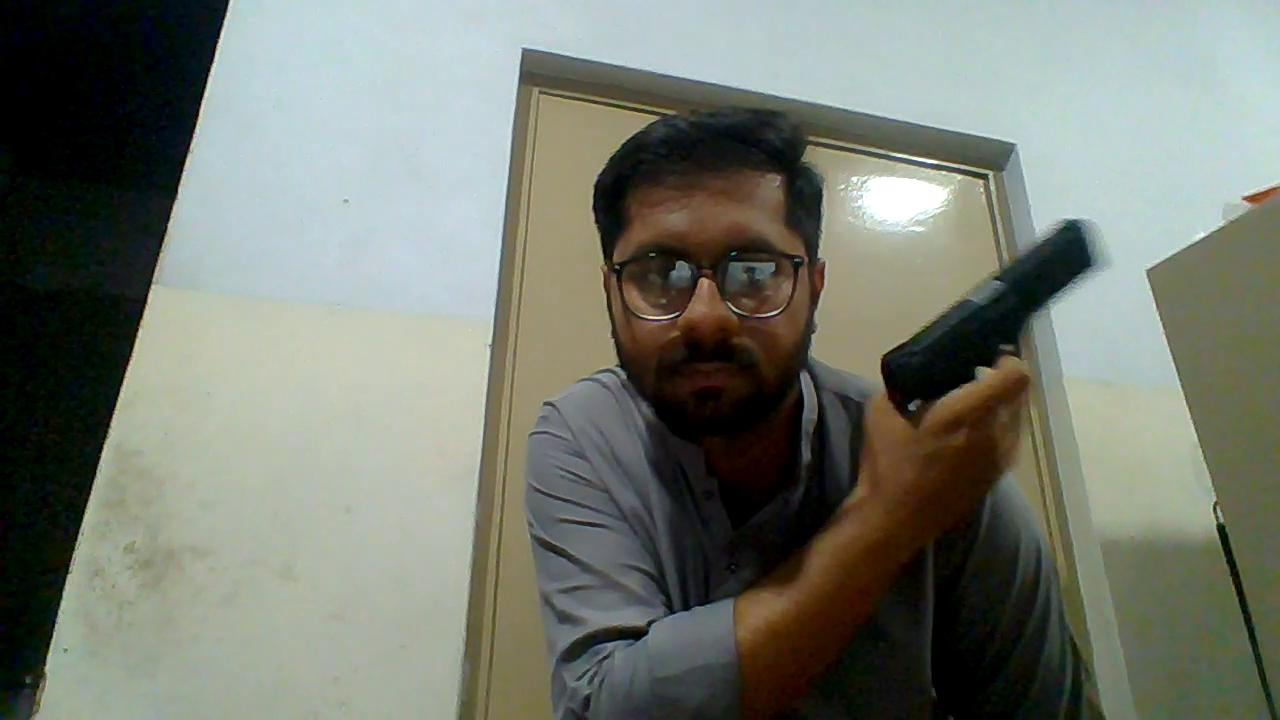criminal: (524, 103, 1099, 720)
weapon: (877, 217, 1096, 421)
